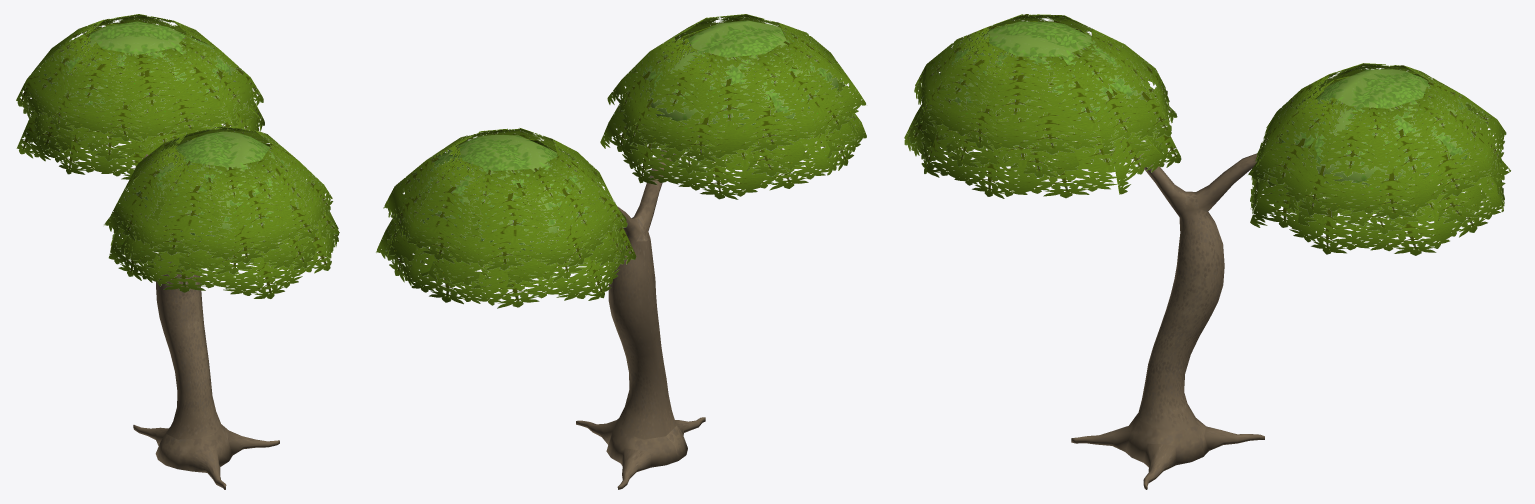
Rendered from ThreeSkinny.fbx.
The picture shows the model from 3 angles, left to right: view 1: azimuth 30°, elevation 25°; view 2: azimuth 150°, elevation 25°; view 3: azimuth 270°, elevation 25°; orthographic projection. The views are drawn at different scales.
Visible parts, largest first — view 1: Cylinder.009; view 2: Cylinder.009; view 3: Cylinder.009.
Part boxes in pixels (x1,y1,x2,y2): Cylinder.009: (16, 14, 339, 489); Cylinder.009: (376, 14, 866, 489); Cylinder.009: (904, 14, 1510, 489).
Size of the model in its own units: 858 by 1034 by 1439.
